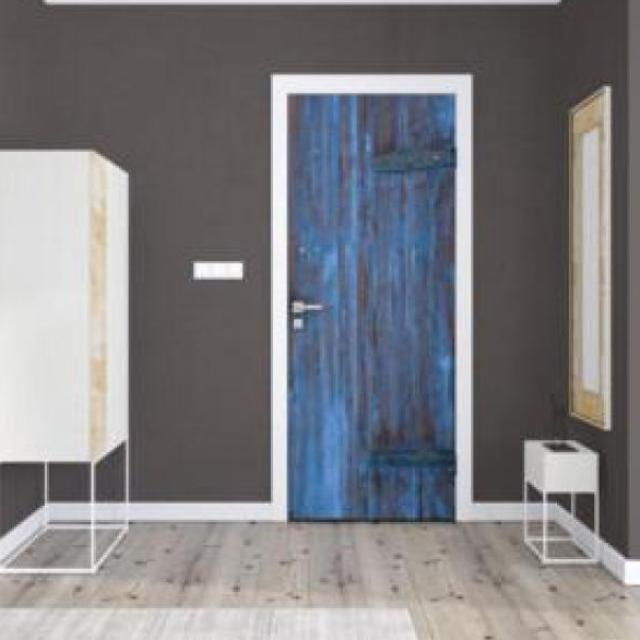door: (285, 85, 457, 522)
